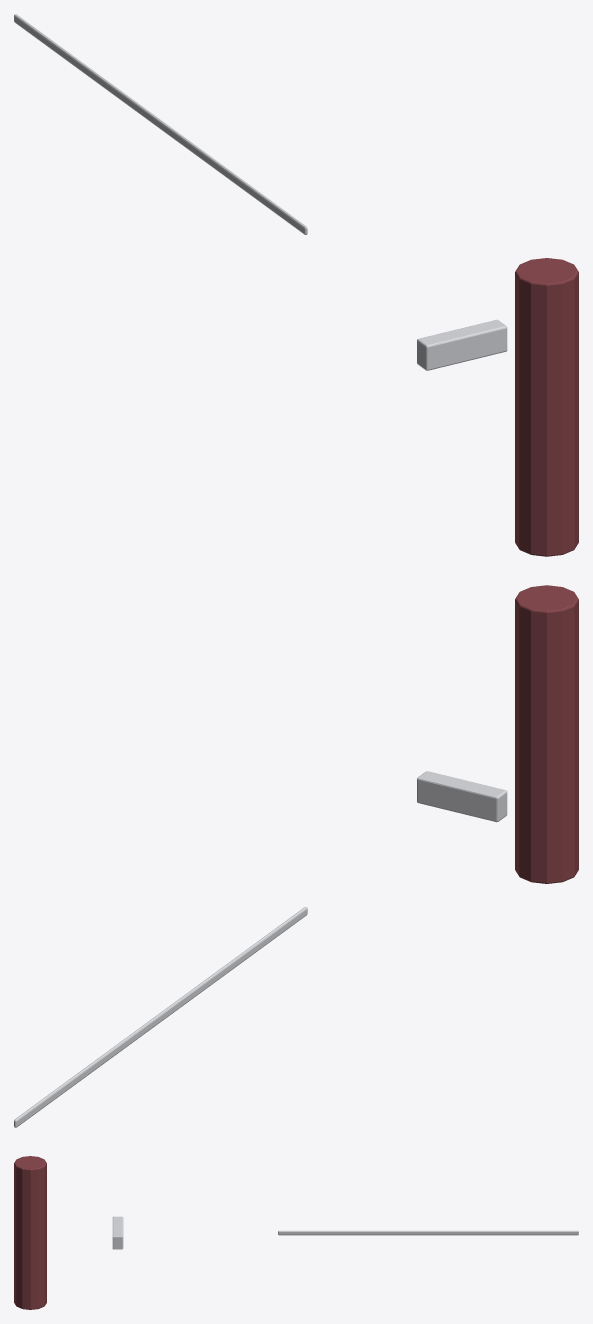
File: blade.glb
3 views of the same model, one above another, from view 1: azimuth 30°, elevation 25°; view 2: azimuth 150°, elevation 25°; view 3: azimuth 270°, elevation 25° (orthographic). The views are drawn at different scales.
Parts seen in each view (by area): view 1: twin_blade; view 2: twin_blade; view 3: twin_blade.
Boxes of the visible parts, bbox=[...] form: twin_blade: bbox=[14, 14, 578, 556]; twin_blade: bbox=[14, 585, 578, 1127]; twin_blade: bbox=[14, 1156, 578, 1309].
Size of the model in its own units: 0.05 by 0.16 by 0.582.
